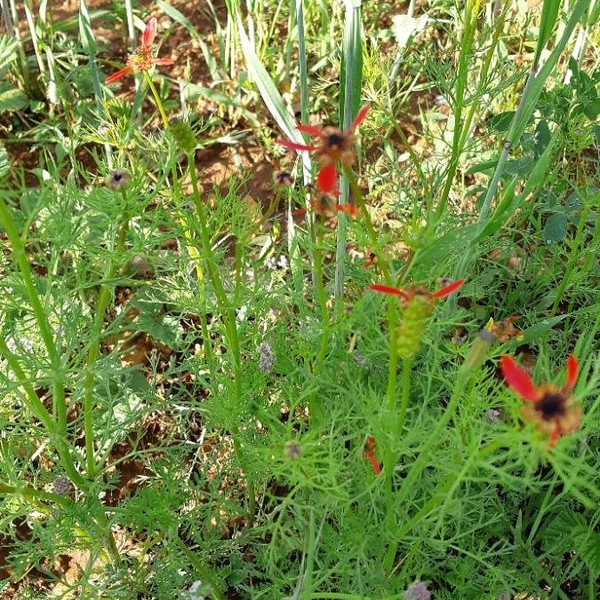obstacle: (178, 93, 438, 534), (392, 16, 568, 547), (32, 125, 191, 530)
